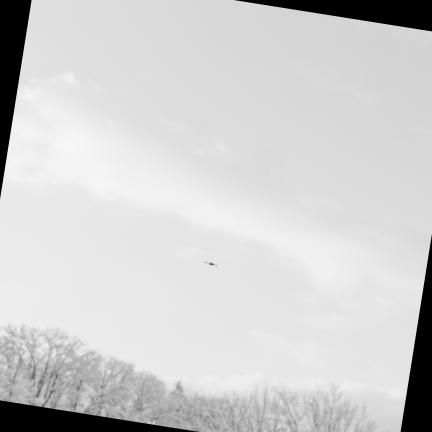Shahed: (203, 261, 218, 268)
